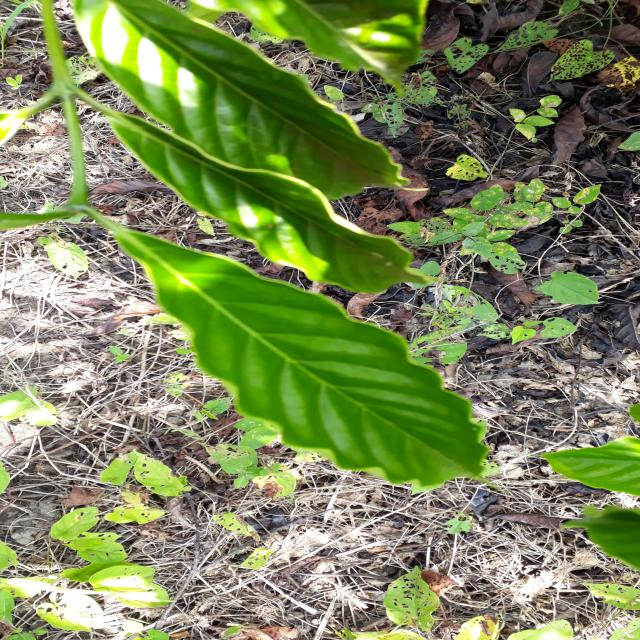Sanas: (91, 216, 488, 495)
